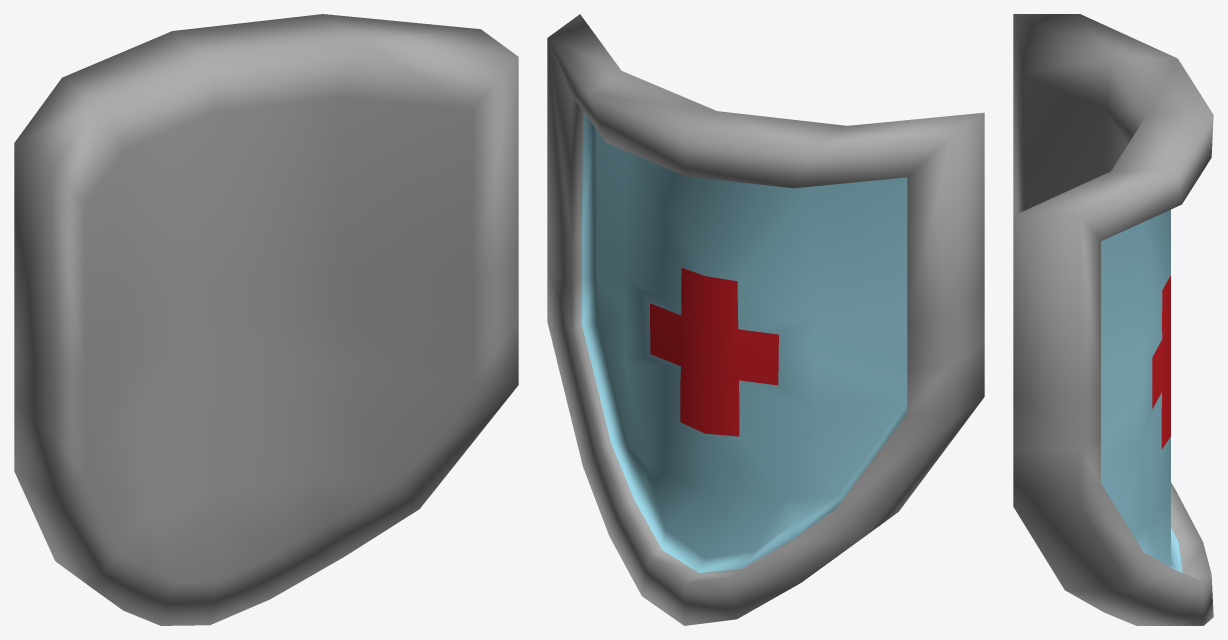
The model's file is Shield.fbx.
3 views of the same model, side by side, from view 1: azimuth 30°, elevation 25°; view 2: azimuth 150°, elevation 25°; view 3: azimuth 270°, elevation 25° (orthographic). The views are drawn at different scales.
Visible parts, largest first — view 1: shield; view 2: shield; view 3: shield.
Part boxes in pixels (<box>): shield: <box>14,14,518,625</box>; shield: <box>547,14,984,625</box>; shield: <box>1013,14,1213,625</box>.
Bounding box in the file's own units: 2.16 × 2.5 × 0.9047.
